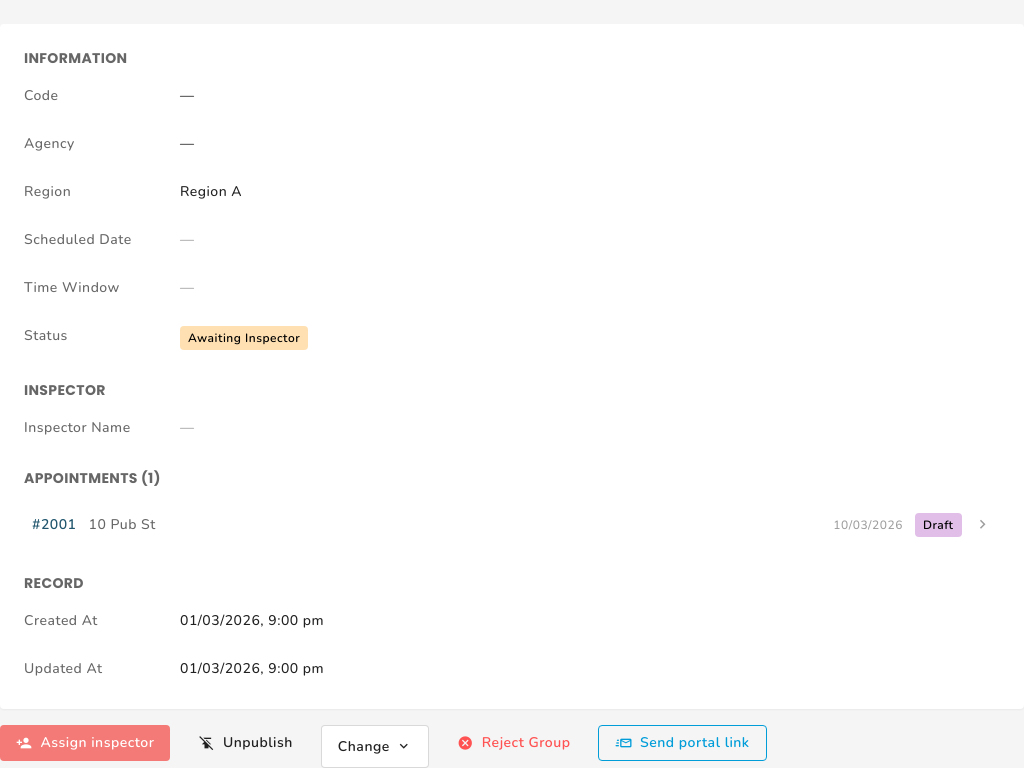
Test: ServiceGroupDetailPage › opens the assign modal from the dedicated Assign inspector button
The image size is (1024, 768).
(page scrolled)
Click the button "Assign inspector".
click(85, 743)  # box [0, 725, 170, 761]
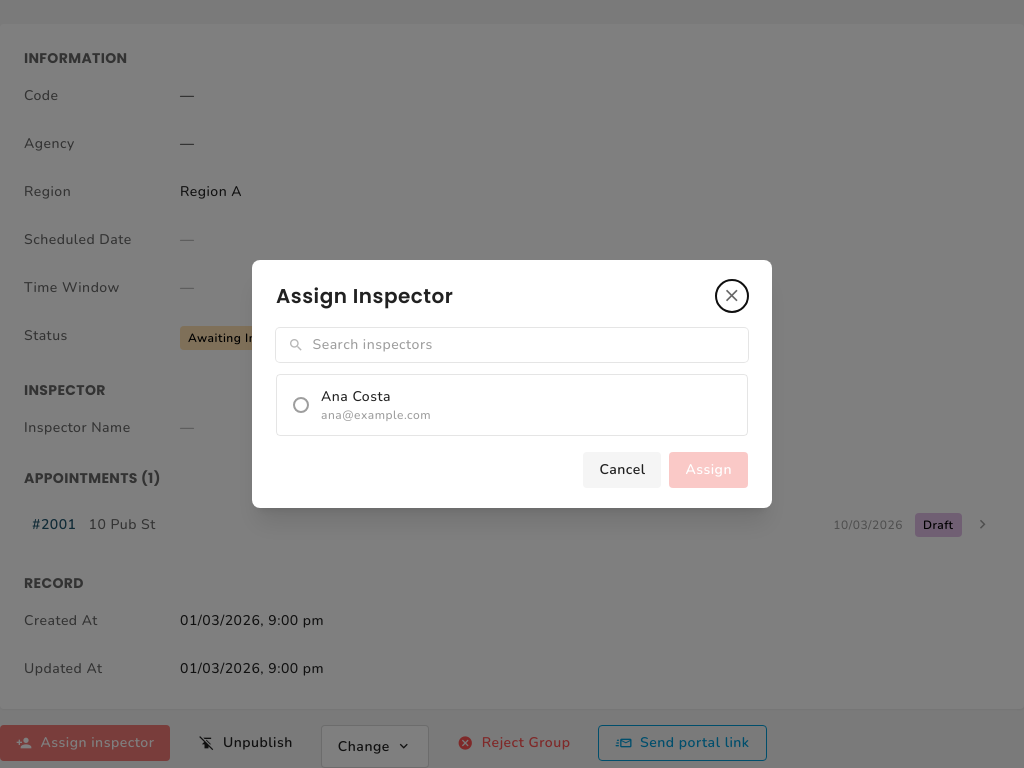
Now the heading "Assign Inspector" is shown, box [276, 282, 454, 310]
